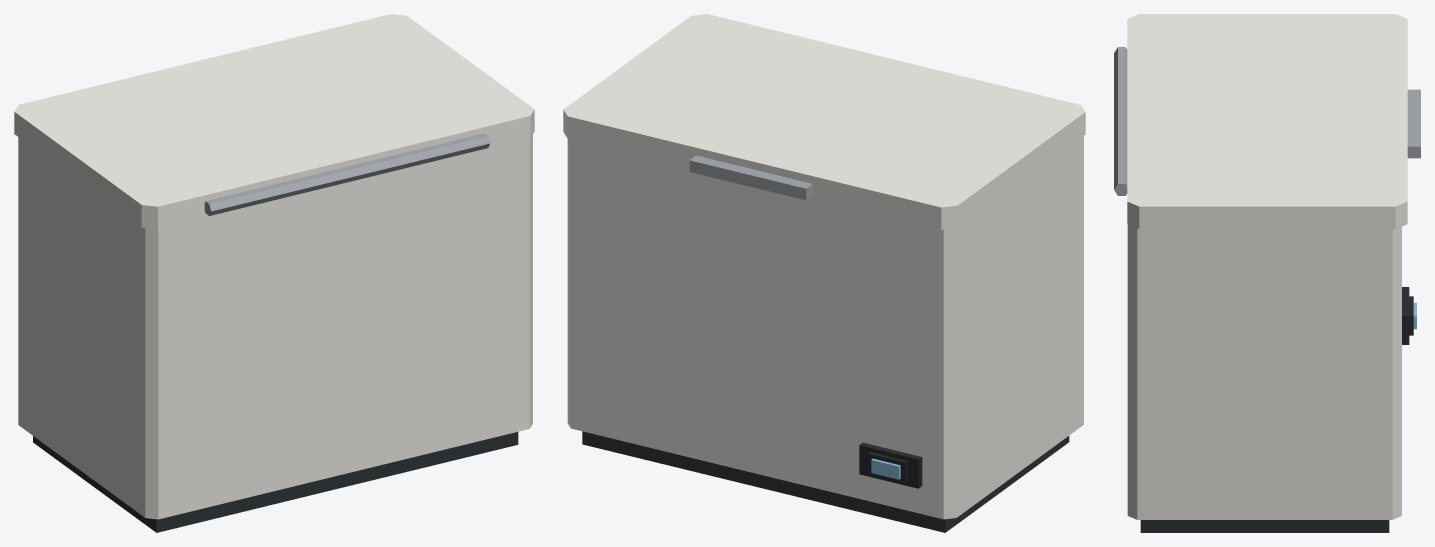
File: SM_LPI_Appl_ChestFreezer_01.fbx
3 views of the same model, side by side, from view 1: azimuth 30°, elevation 25°; view 2: azimuth 150°, elevation 25°; view 3: azimuth 270°, elevation 25° (orthographic).
Visible parts, largest first — view 1: SM_LPI_Appl_ChestFreezer_01; view 2: SM_LPI_Appl_ChestFreezer_01; view 3: SM_LPI_Appl_ChestFreezer_01.
Boxes of the visible parts, x1=… form: SM_LPI_Appl_ChestFreezer_01: x1=14, y1=14, x2=534, y2=532; SM_LPI_Appl_ChestFreezer_01: x1=563, y1=14, x2=1085, y2=532; SM_LPI_Appl_ChestFreezer_01: x1=1114, y1=14, x2=1420, y2=532.
Bounding box in the file's own units: 1.06 × 0.86 × 0.716.
